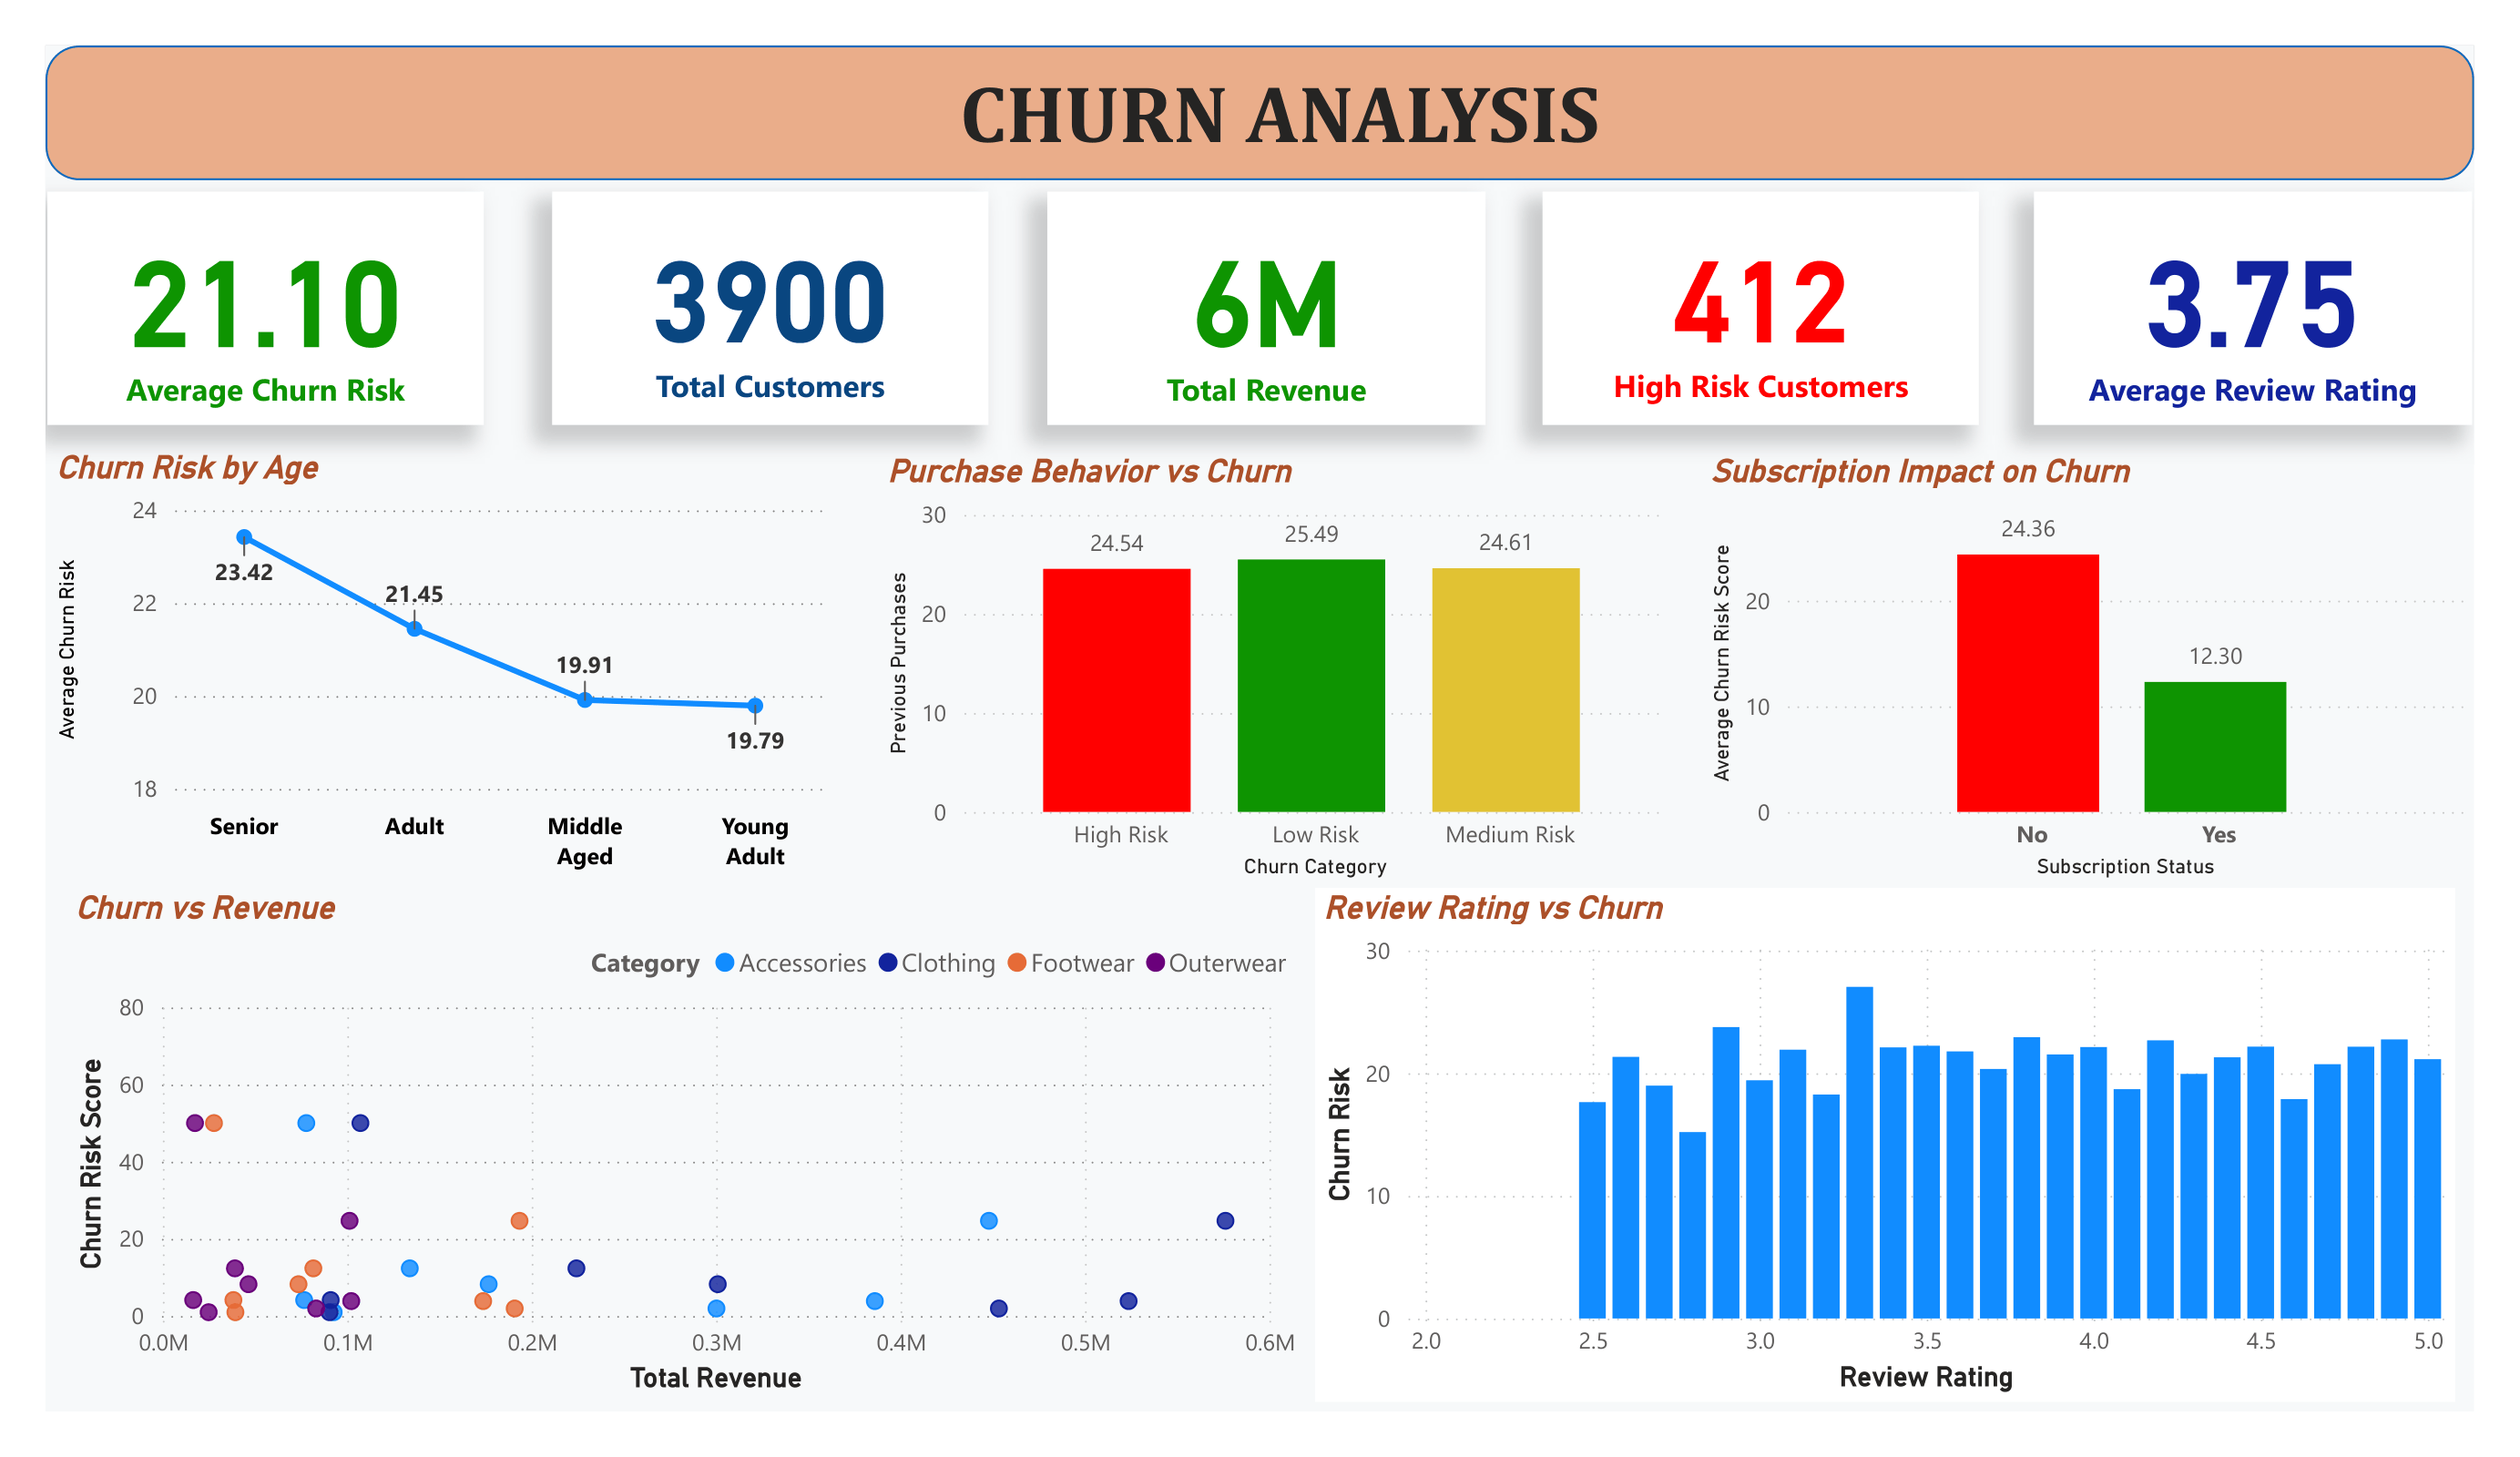

What the dashboard file says about the page in this screenshot:
{"tool":"powerbi","page":{"name":"Page 2","canvas":[1280,720],"ordinal":1},"visuals":[{"type":"shape","box":[0,0,1280,70.9],"z":0},{"type":"textbox","box":[261.7,4.9,777.7,66],"z":1000},{"type":"card","title":"adeihfh","fields":{"Values":["Advanced_retail_analytics.Average Churn Risk"]},"box":[1.2,77.2,230,123.1],"z":2000},{"type":"card","title":"adeihfh","fields":{"Values":["Advanced_retail_analytics.Total Revenue"]},"box":[528.4,77.2,230.4,123.1],"z":3000},{"type":"card","title":"adeihfh","fields":{"Values":["Advanced_retail_analytics.Average Review Rating"]},"box":[1048.4,77.2,230.4,123.1],"z":4000},{"type":"lineChart","title":"Churn Risk by Age","fields":{"Y":["Avg(Advanced_retail_analytics.churn_risk_score)"],"Category":["Advanced_retail_analytics.age_group"]},"box":[1.2,212.3,419.8,230.4],"z":5000},{"type":"scatterChart","title":"Churn vs Revenue","fields":{"X":["Advanced_retail_analytics.Total Revenue"],"Y":["Advanced_retail_analytics.churn_risk_score"],"Series":["Advanced_retail_analytics.category"]},"box":[11.2,443.8,652.5,271.2],"z":6000},{"type":"columnChart","title":"Review Rating vs Churn","fields":{"Category":["Advanced_retail_analytics.review_rating"],"Y":["Avg(Advanced_retail_analytics.churn_risk_score)"]},"box":[668.8,443.8,601.2,271.2],"z":7000},{"type":"clusteredColumnChart","title":"Purchase  Behavior vs Churn","fields":{"Category":["Advanced_retail_analytics.churn_category"],"Y":["Avg(Advanced_retail_analytics.previous_purchases)"]},"box":[439.1,213.5,419.8,230.4],"z":8000},{"type":"clusteredColumnChart","title":"Subscription Impact on Churn","fields":{"Category":["Advanced_retail_analytics.subscription_status"],"Y":["Avg(Advanced_retail_analytics.churn_risk_score)"]},"box":[873.5,213.5,405.4,230.4],"z":9000},{"type":"card","title":"adeihfh","fields":{"Values":["Advanced_retail_analytics.High Risk Customers"]},"box":[789,77.2,230.4,123.1],"z":10000},{"type":"card","title":"adeihfh","fields":{"Values":["Advanced_retail_analytics.Total Customers"]},"box":[266.6,77.2,230.4,123.1],"z":11000}]}

Visuals, with their boxes on the page's 1280x720 design canvas (x1, y1, x2, y2). These are canvas units, not pixel positions in the 2520x1457 screenshot, which may show the page scaled, cropped or inside an application window:
shape: locate(0, 0, 1280, 71)
textbox: locate(262, 5, 1039, 71)
"adeihfh" card: locate(1, 77, 231, 200)
"adeihfh" card: locate(528, 77, 759, 200)
"adeihfh" card: locate(1048, 77, 1279, 200)
"Churn Risk by Age" lineChart: locate(1, 212, 421, 443)
"Churn vs Revenue" scatterChart: locate(11, 444, 664, 715)
"Review Rating vs Churn" columnChart: locate(669, 444, 1270, 715)
"Purchase  Behavior vs Churn" clusteredColumnChart: locate(439, 214, 859, 444)
"Subscription Impact on Churn" clusteredColumnChart: locate(874, 214, 1279, 444)
"adeihfh" card: locate(789, 77, 1019, 200)
"adeihfh" card: locate(267, 77, 497, 200)
